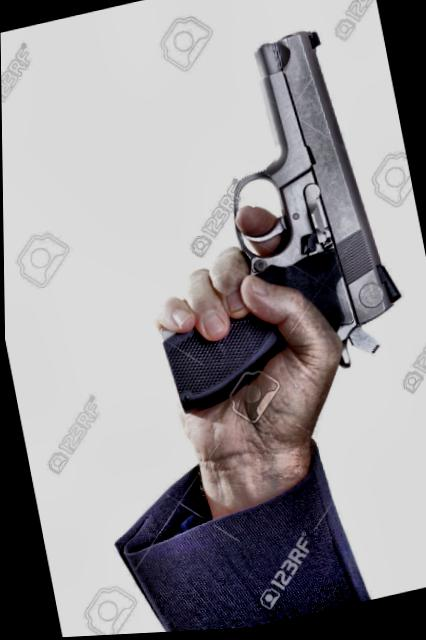pistol: (105, 17, 414, 424)
